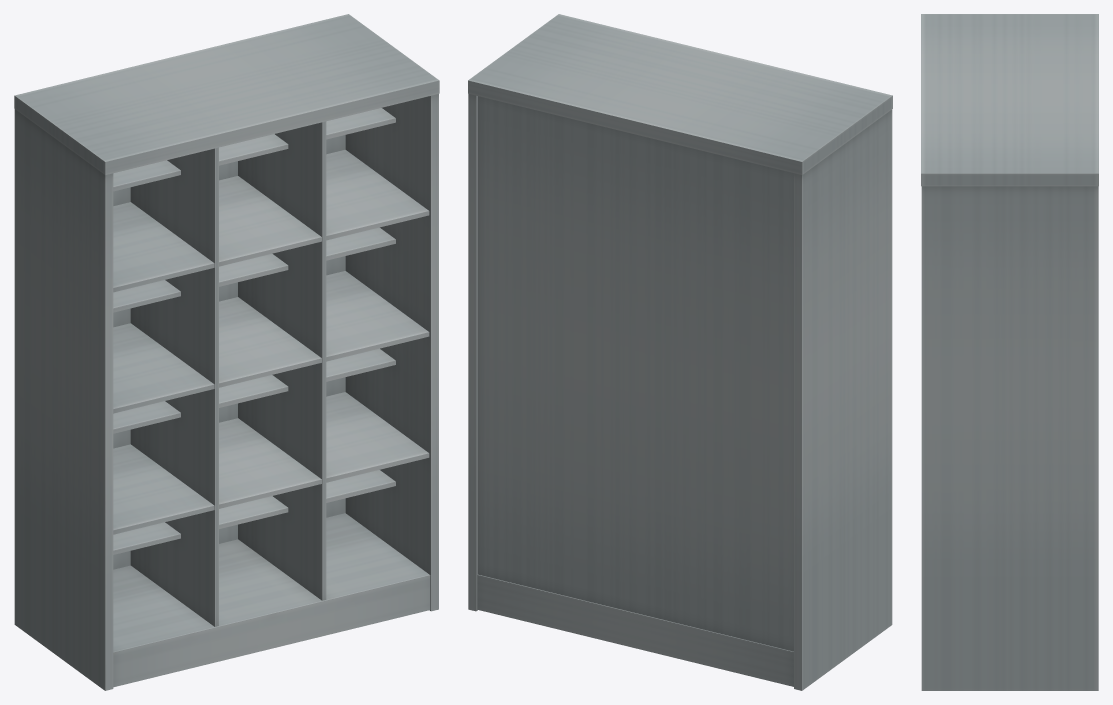
File: set_shoecupboard_a_14.fbx
The picture shows the model from 3 angles, left to right: view 1: azimuth 30°, elevation 25°; view 2: azimuth 150°, elevation 25°; view 3: azimuth 270°, elevation 25°; orthographic projection. The views are drawn at different scales.
Parts seen in each view (by area): view 1: set_shoecupboard_a_14; view 2: set_shoecupboard_a_14; view 3: set_shoecupboard_a_14.
Part boxes in pixels (box(x1,y1,x2,y2)): set_shoecupboard_a_14: box(14, 14, 439, 690); set_shoecupboard_a_14: box(468, 14, 892, 690); set_shoecupboard_a_14: box(921, 14, 1098, 690).
Size of the model in its own units: 79.39 by 120 by 37.38.
